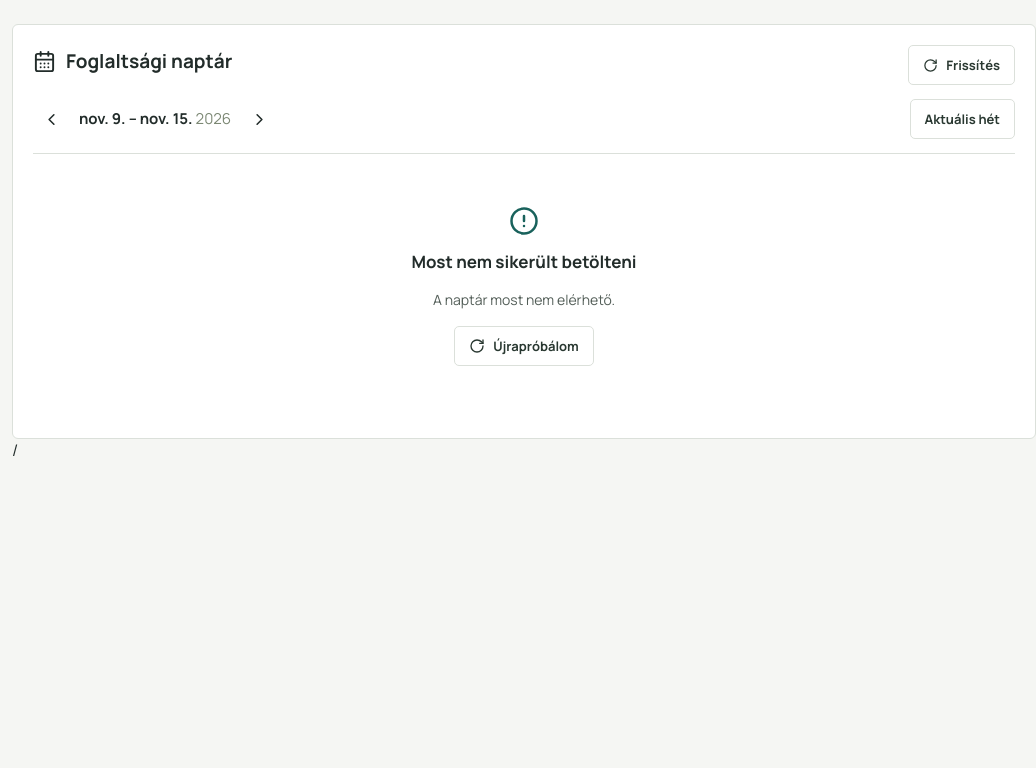
foglaltsági naptár › betöltési hiba után újrapróbálható
Check: the message shows "nem elérhető", box [433,290,615,309]
Click the button "Újrapróbálom".
click(524, 346)  # box [454,326,594,366]
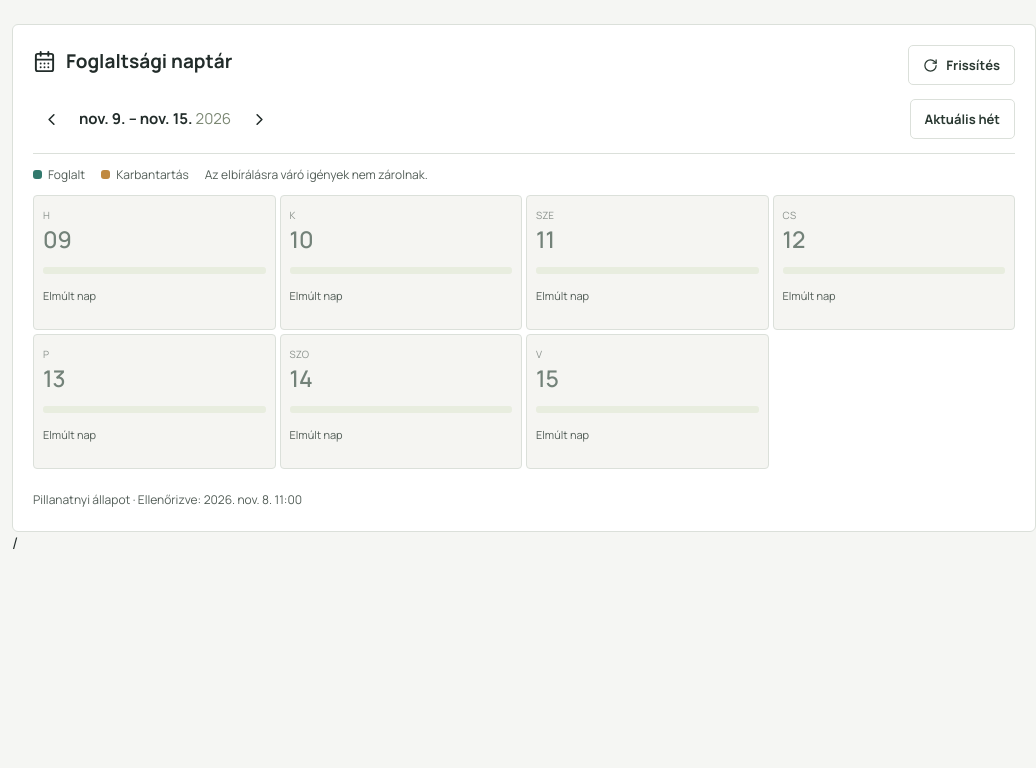
Check: the message "Most nem sikerült betölteni A naptár most nem elérhető. Újrapróbálom" is gone
Check: the text "Pillanatnyi állapot · Ellenőrizve: 2026. nov. 8. 11:00" is shown, box [33,491,302,508]
